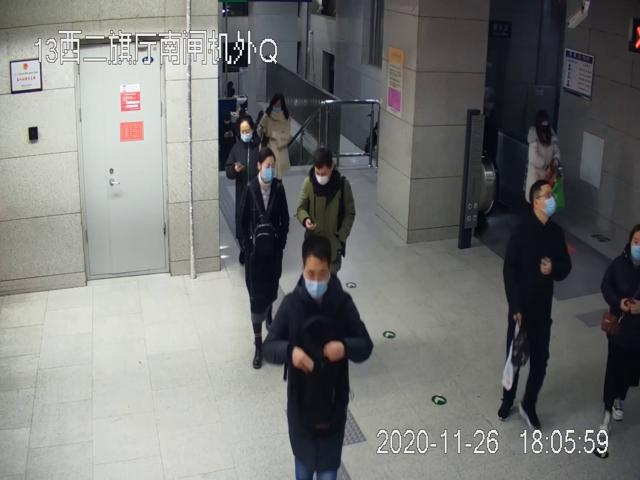person: (265, 237, 373, 480), (499, 182, 572, 437), (237, 146, 291, 372), (297, 145, 356, 281), (226, 119, 263, 265), (524, 113, 565, 209), (256, 94, 292, 182)
